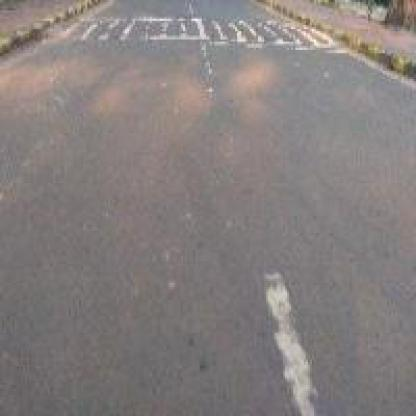Speed Bump: (50, 8, 349, 52)
